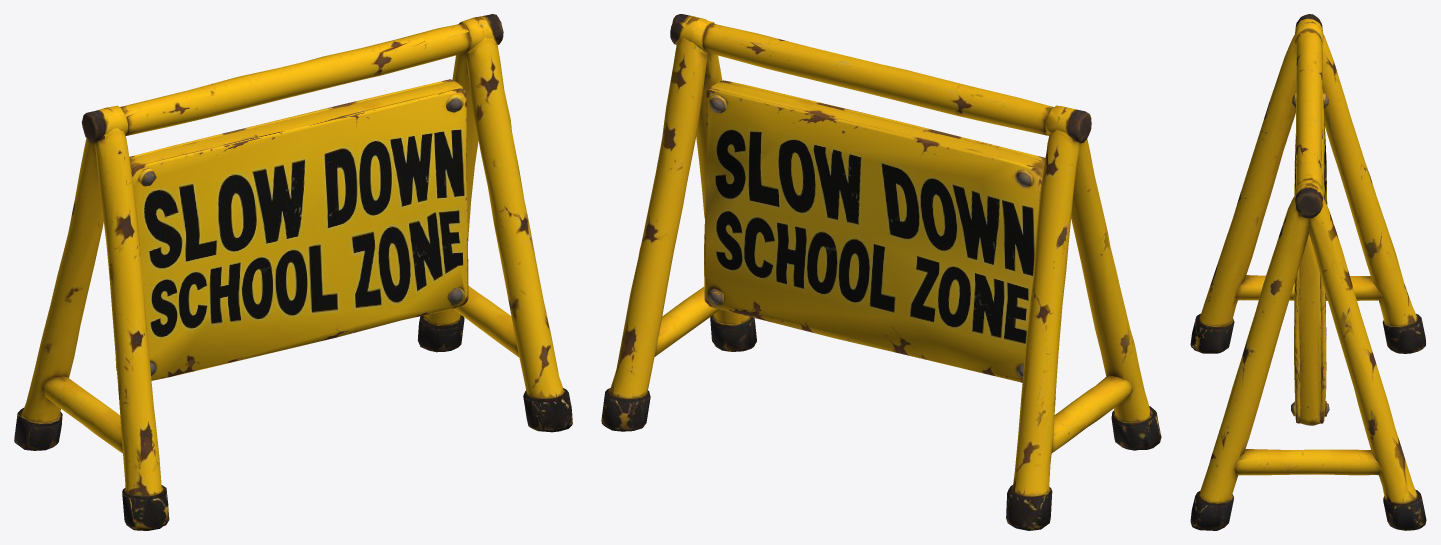
The model's file is school_zone.glb.
3 views of the same model, side by side, from view 1: azimuth 30°, elevation 25°; view 2: azimuth 150°, elevation 25°; view 3: azimuth 270°, elevation 25° (orthographic). The views are drawn at different scales.
Parts seen in each view (by area): view 1: Mesh0; view 2: Mesh0; view 3: Mesh0.
Part boxes in pixels (x1,y1,x2,y2): Mesh0: (14,14,572,530); Mesh0: (601,14,1161,530); Mesh0: (1190,14,1426,530).
Size of the model in its own units: 1 by 0.8069 by 0.5189.
Materials: 1 (1 with a texture image).
